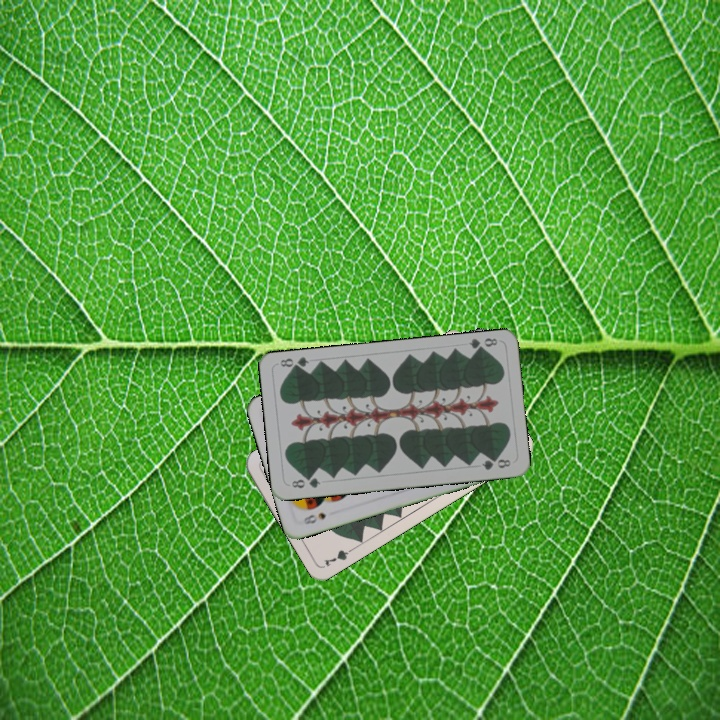G7: (320, 543, 358, 569)
G8: (465, 334, 500, 355), (287, 473, 323, 491)
S8: (300, 508, 329, 527)
